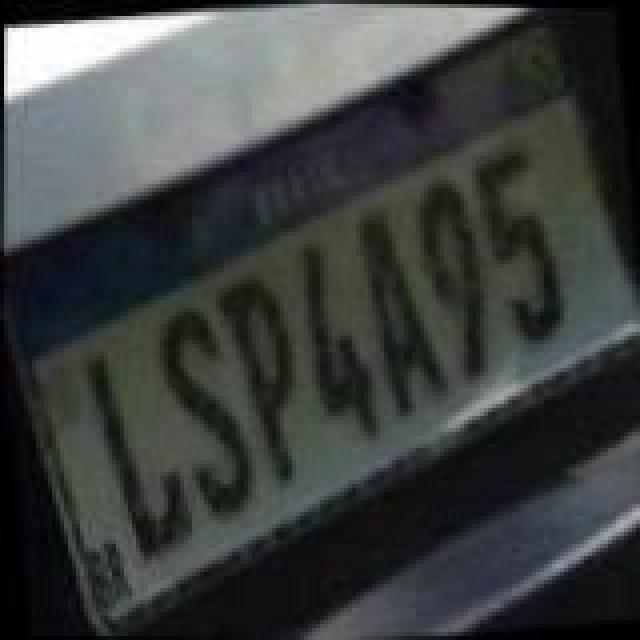4: (294, 238, 382, 446)
5: (466, 144, 574, 352)
9: (410, 170, 498, 382)
A: (352, 204, 452, 428)
L: (80, 340, 200, 564)
P: (212, 276, 308, 492)
S: (154, 300, 262, 524)
